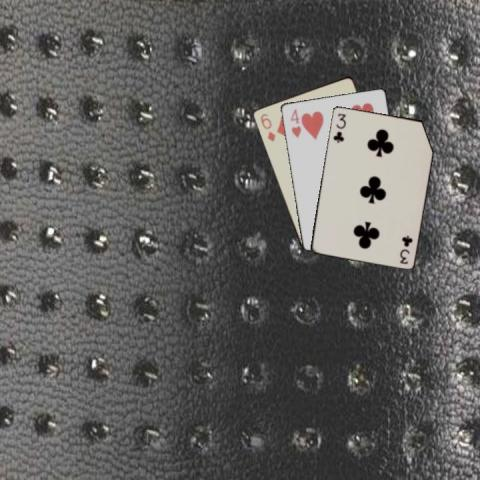3c: (330, 110, 347, 144), (397, 232, 414, 265)
4h: (288, 106, 301, 139)
6d: (257, 111, 277, 143)
